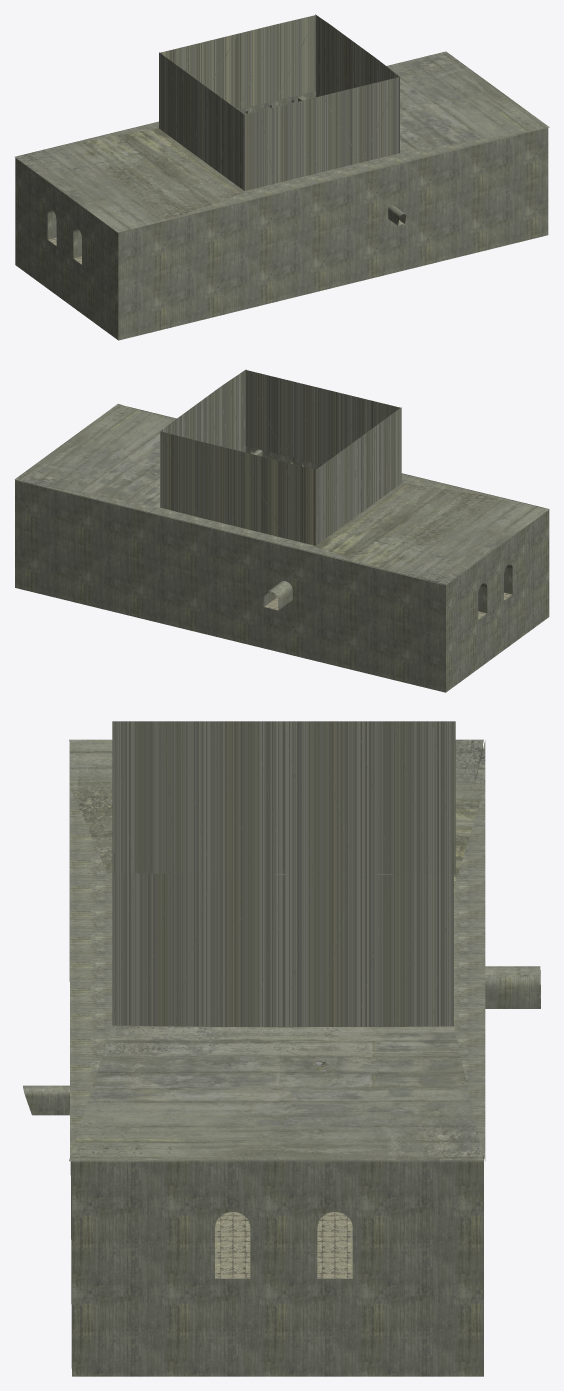
File: SM_Republic_02_00.fbx
3 renders of one model, top to bottom at view 1: azimuth 30°, elevation 25°; view 2: azimuth 150°, elevation 25°; view 3: azimuth 270°, elevation 25°, orthographic. The views are drawn at different scales.
Visible parts, largest first — view 1: SM_Republic_02_00, SM_Republic_02_00.032, SM_Republic_02_00.017, SM_Republic_02_00.016, SM_Republic_02_00.015; view 2: SM_Republic_02_00, SM_Republic_02_00.032, SM_Republic_02_00.017, SM_Republic_02_00.016, SM_Republic_02_00.015; view 3: SM_Republic_02_00.032, SM_Republic_02_00, SM_Republic_02_00.016, SM_Republic_02_00.015, SM_Republic_02_00.017.
Part boxes in pixels (<box>): SM_Republic_02_00: <box>15,51,548,340</box>; SM_Republic_02_00.032: <box>159,14,399,190</box>; SM_Republic_02_00.017: <box>14,128,244,264</box>; SM_Republic_02_00.016: <box>316,51,549,153</box>; SM_Republic_02_00.015: <box>17,54,546,231</box>; SM_Republic_02_00: <box>15,407,549,692</box>; SM_Republic_02_00.032: <box>160,369,401,545</box>; SM_Republic_02_00.017: <box>316,483,549,619</box>; SM_Republic_02_00.016: <box>14,403,245,507</box>; SM_Republic_02_00.015: <box>17,406,539,610</box>; SM_Republic_02_00.032: <box>112,721,455,1026</box>; SM_Republic_02_00: <box>69,743,483,1376</box>; SM_Republic_02_00.016: <box>69,1025,483,1278</box>; SM_Republic_02_00.015: <box>23,740,540,1161</box>; SM_Republic_02_00.017: <box>69,739,483,1027</box>.
Bounding box in the file's own units: 14905 × 6080 × 7742.
